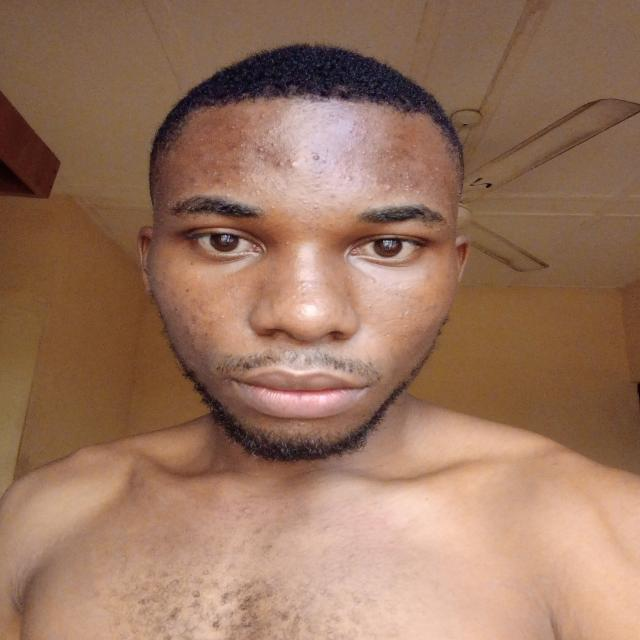Acne: (400, 146, 440, 185), (194, 166, 231, 189), (343, 115, 373, 142), (233, 170, 263, 196), (356, 146, 400, 159), (226, 125, 248, 150), (302, 214, 329, 233), (261, 173, 288, 192), (389, 162, 414, 180), (361, 164, 379, 189), (272, 154, 300, 170), (242, 110, 281, 121), (311, 166, 325, 193), (403, 182, 423, 198), (334, 164, 354, 180), (205, 306, 226, 320), (254, 142, 280, 152), (262, 125, 280, 139), (300, 200, 321, 210), (308, 150, 322, 162), (396, 308, 411, 319), (320, 158, 338, 167), (327, 192, 338, 200), (240, 157, 252, 164), (383, 184, 394, 191), (283, 240, 292, 247), (404, 324, 410, 331), (366, 195, 374, 200), (366, 303, 372, 309), (270, 202, 276, 208), (225, 192, 231, 198)
